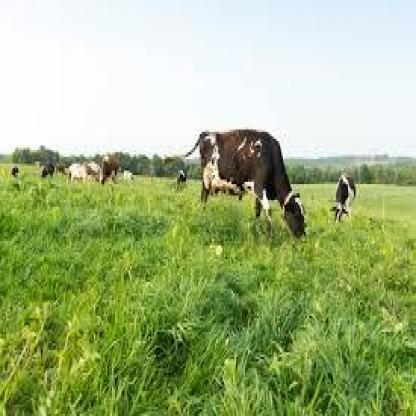cow: (199, 128, 308, 244), (329, 173, 356, 227), (99, 150, 123, 191), (60, 160, 91, 186), (176, 170, 187, 186), (41, 164, 54, 177)
